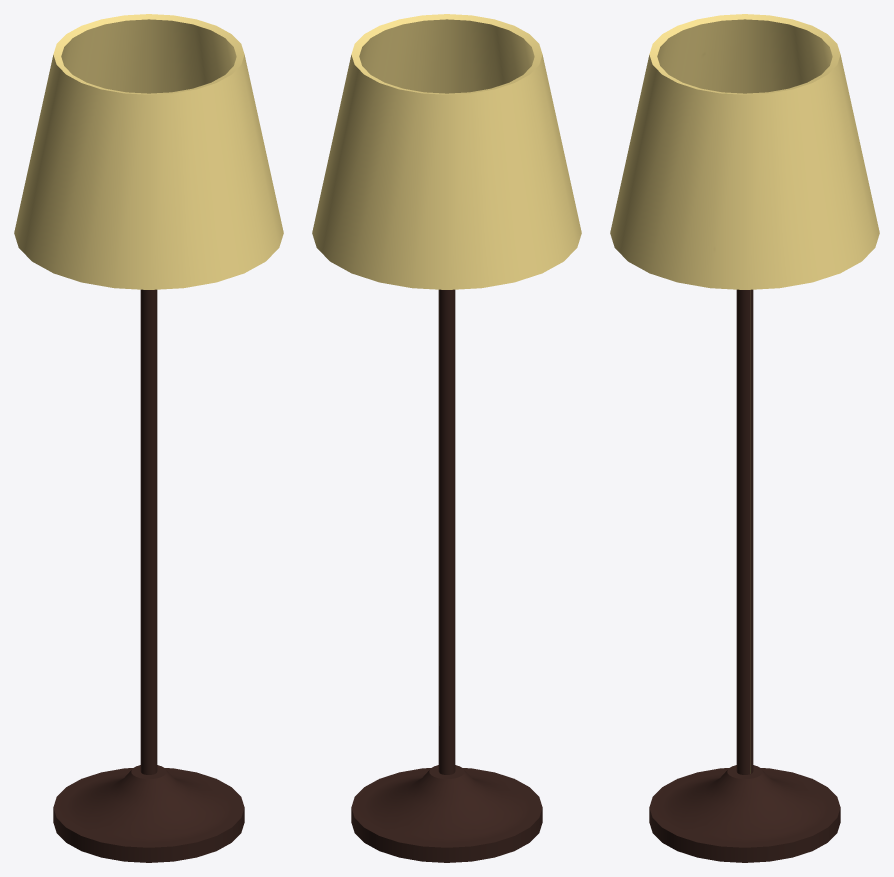
File: lamp.FBX
3 renders of one model, left to right at view 1: azimuth 30°, elevation 25°; view 2: azimuth 150°, elevation 25°; view 3: azimuth 270°, elevation 25°, orthographic.
Parts seen in each view (by area): view 1: lamp; view 2: lamp; view 3: lamp.
Boxes of the visible parts, x1=… form: lamp: x1=14, y1=14, x2=283, y2=862; lamp: x1=312, y1=14, x2=581, y2=862; lamp: x1=610, y1=14, x2=879, y2=862.
Bounding box in the file's own units: 28.21 × 88.65 × 28.21.
